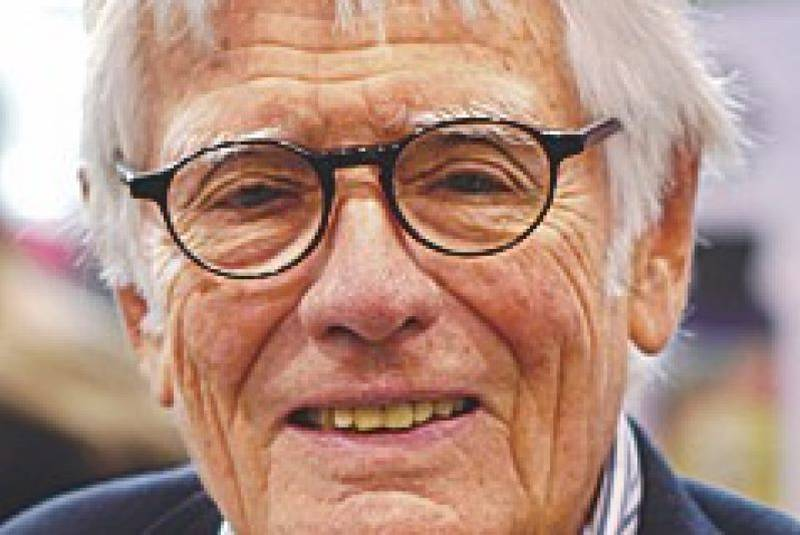stroke: (151, 44, 612, 495)
